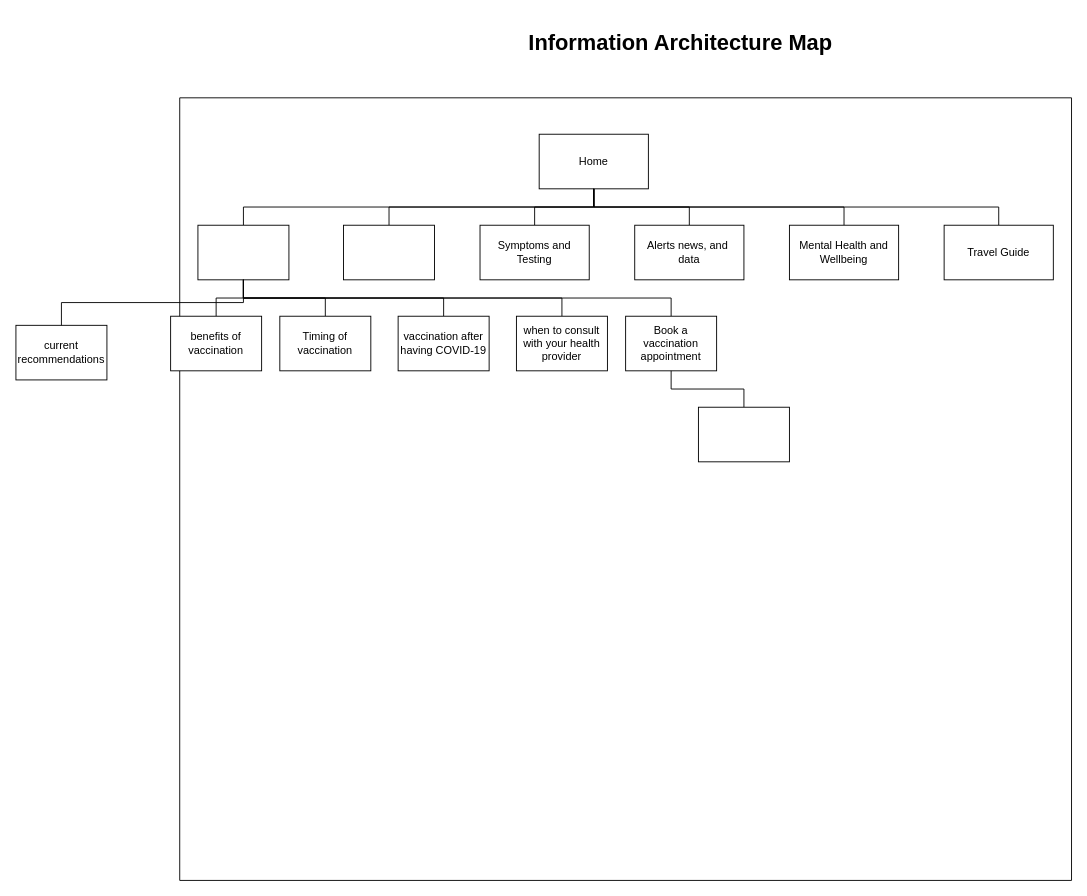
The diagram is 1087 pixels wide and 896 high, and some of its shapes have lost their labels. Here are the shapes that lost their labels. From the top down, the centre of each, then its label:
At pixel 243 252: "Vaccine".
At pixel 389 252: "Protect yourself and others".
At pixel 743 434: "Book appointment form".
